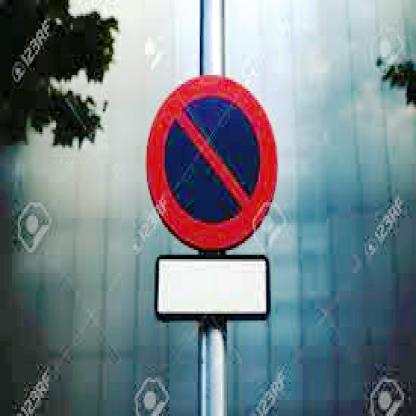No parking: (148, 69, 278, 247)
